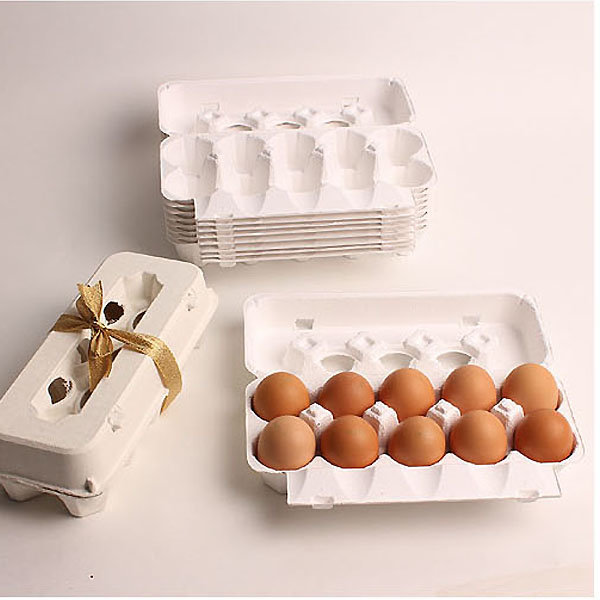egg: (249, 364, 575, 482)
